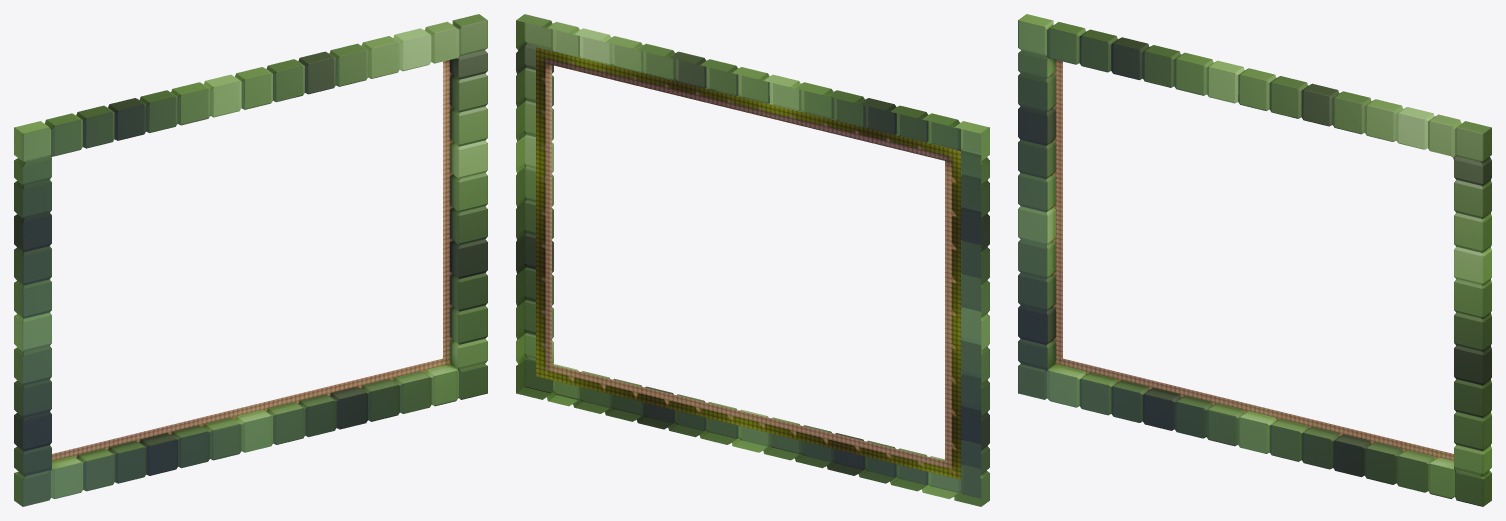
Rendered from GreenFrame.glb.
3 views of the same model, side by side, from view 1: azimuth 30°, elevation 25°; view 2: azimuth 150°, elevation 25°; view 3: azimuth 330°, elevation 25° (orthographic).
Visible parts, largest first — view 1: GreenFrameBaked; view 2: GreenFrameBaked; view 3: GreenFrameBaked.
Boxes of the visible parts, <box> form: GreenFrameBaked: <box>14,14,487,506</box>; GreenFrameBaked: <box>516,14,989,506</box>; GreenFrameBaked: <box>1018,14,1491,506</box>.
Bounding box in the file's own units: 1.79 × 1.37 × 0.0629.
1 material, 1 textured.
